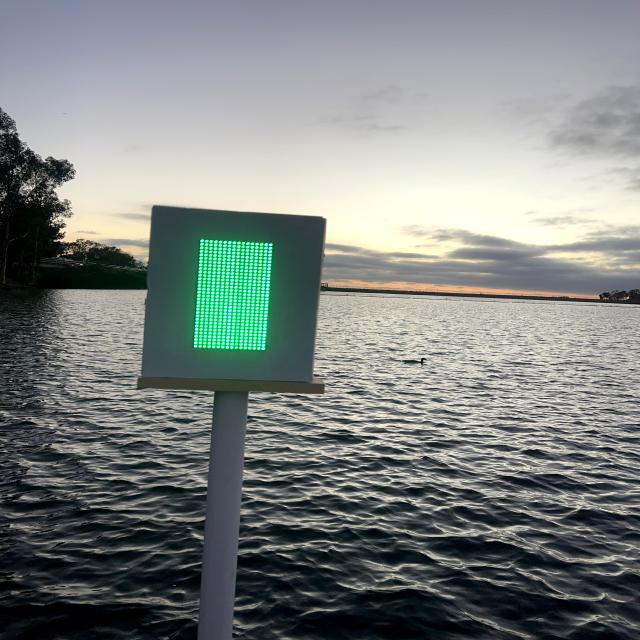led: (164, 208, 302, 380)
